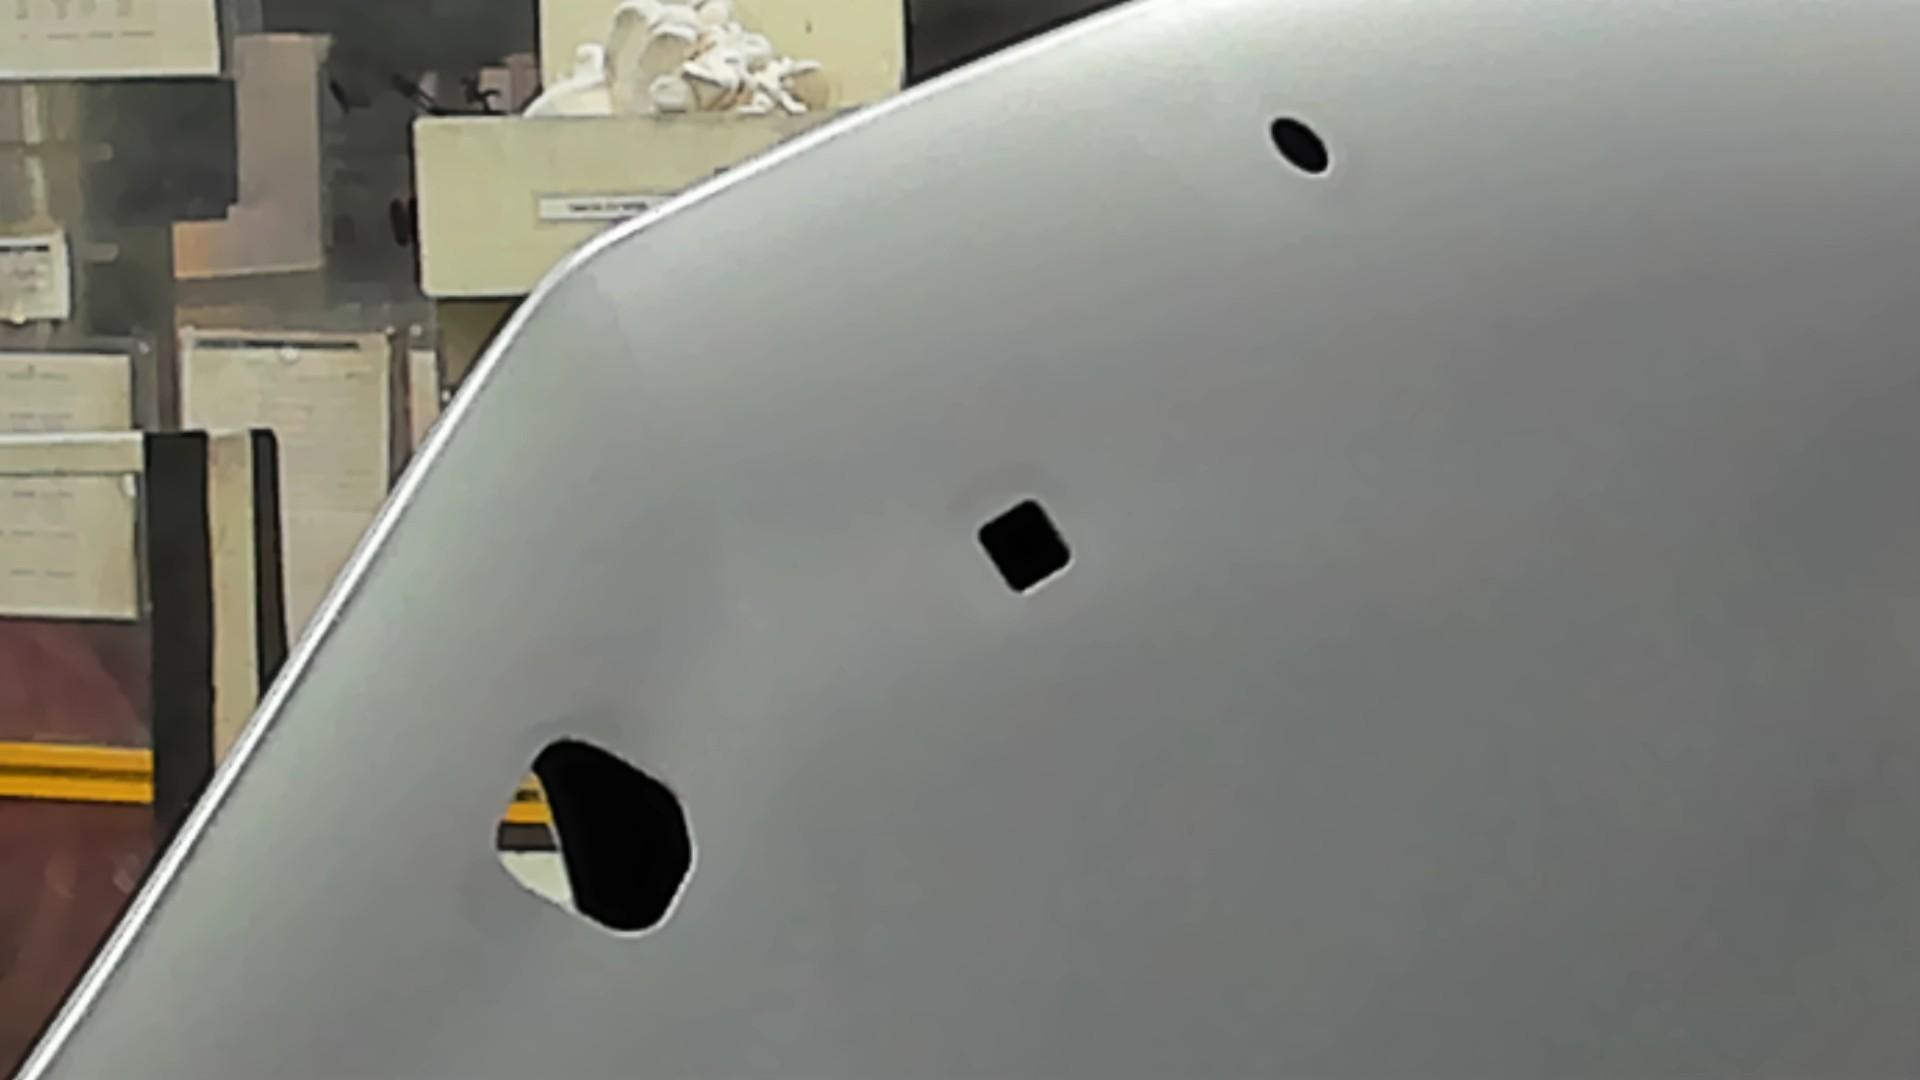capo: (1087, 182, 1920, 1080)
chico: (1261, 112, 1335, 179)
grande: (492, 728, 705, 953)
mediano: (971, 495, 1083, 597)
